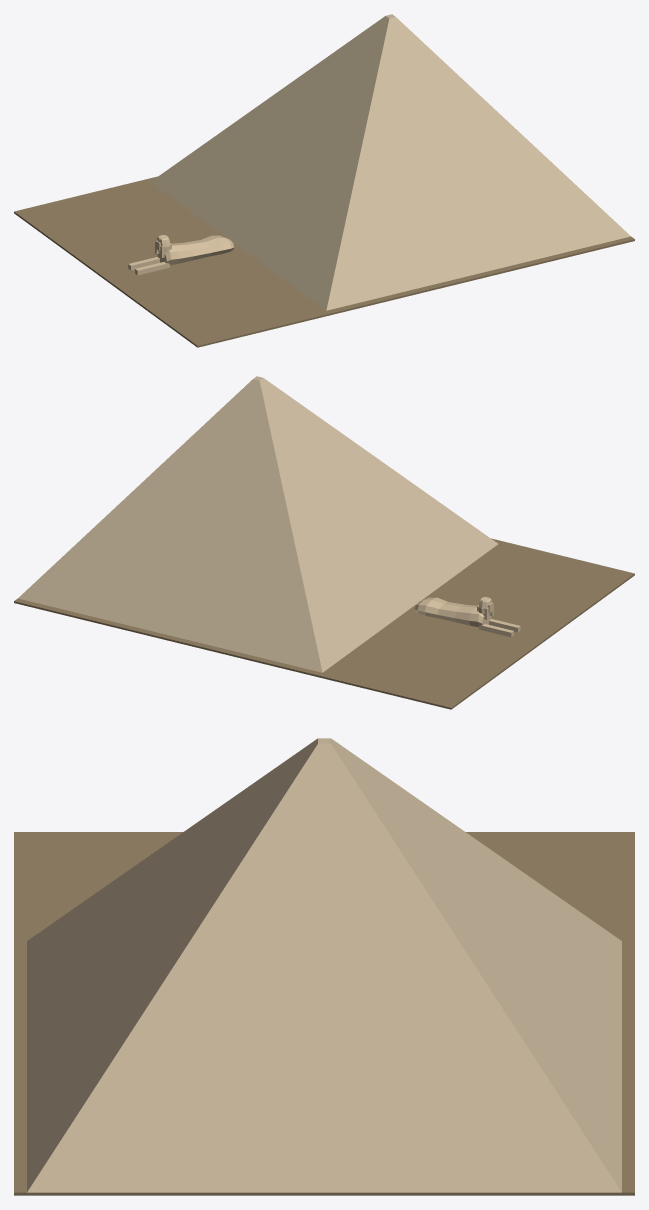
Rendered from far.fbx.
The picture shows the model from 3 angles, top to bottom: view 1: azimuth 30°, elevation 25°; view 2: azimuth 150°, elevation 25°; view 3: azimuth 270°, elevation 25°; orthographic projection. The views are drawn at different scales.
Visible parts, largest first — view 1: landmark-pyramid/0/far; view 2: landmark-pyramid/0/far; view 3: landmark-pyramid/0/far.
Part boxes in pixels (left/top/right/bottom): landmark-pyramid/0/far: left=14, top=14, right=634, bottom=347; landmark-pyramid/0/far: left=14, top=376, right=634, bottom=709; landmark-pyramid/0/far: left=14, top=738, right=634, bottom=1195.
Size of the model in its own units: 330 by 140 by 240.
